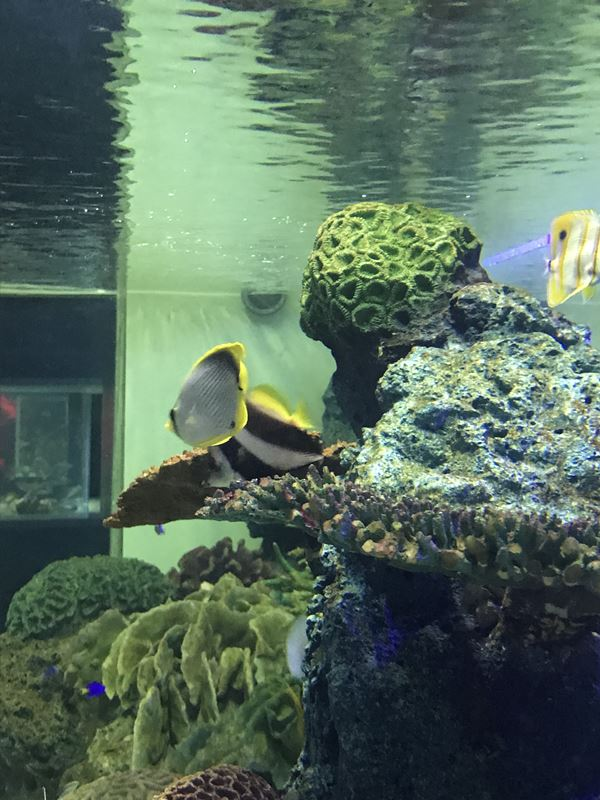Black-backed butterflyfish: (157, 336, 267, 459)
